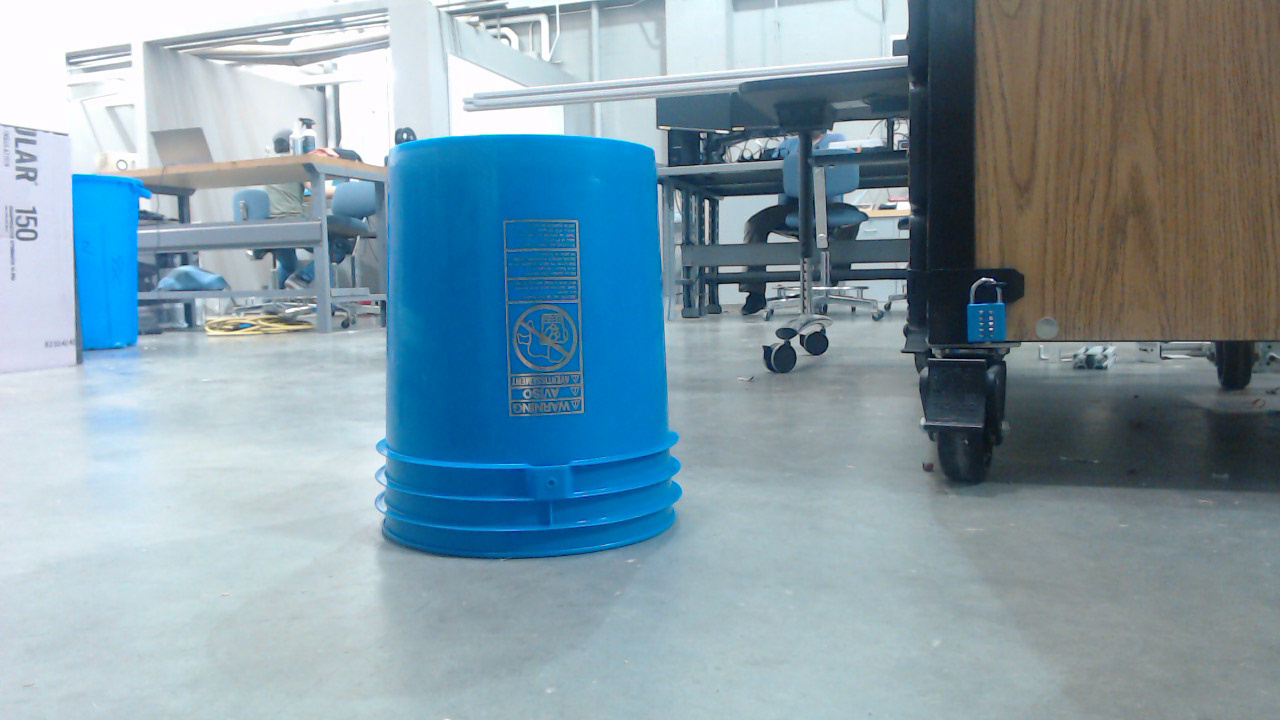blue_bucket: (376, 138, 688, 568)
